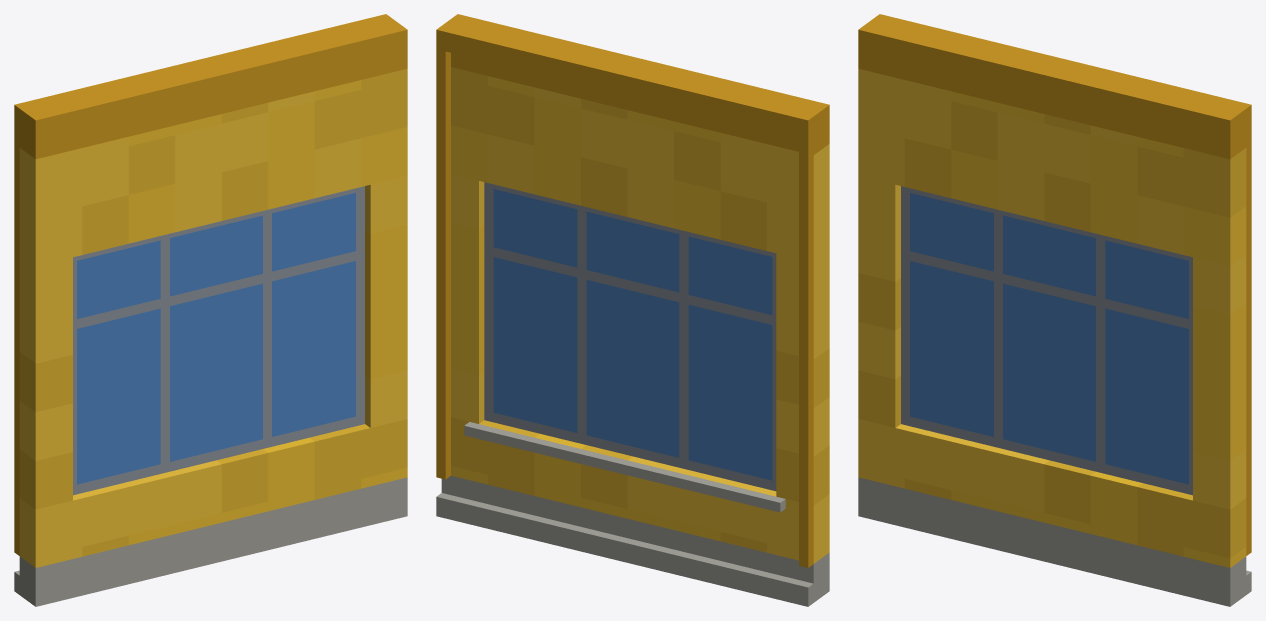
Rendered from ws_window.glb.
The picture shows the model from 3 angles, left to right: view 1: azimuth 30°, elevation 25°; view 2: azimuth 150°, elevation 25°; view 3: azimuth 330°, elevation 25°; orthographic projection.
Visible parts, largest first — view 1: wall; view 2: wall; view 3: wall.
Boxes of the visible parts, x1,y1,x2,y2 form: wall: (14,14,407,606); wall: (436,14,829,606); wall: (858,14,1251,606).
Bounding box in the file's own units: 4 × 5 × 0.4.
